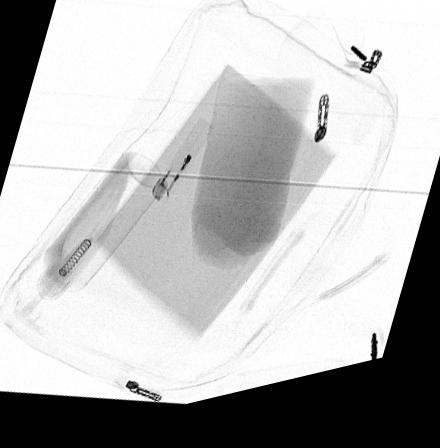Lighter: (149, 126, 213, 210)
